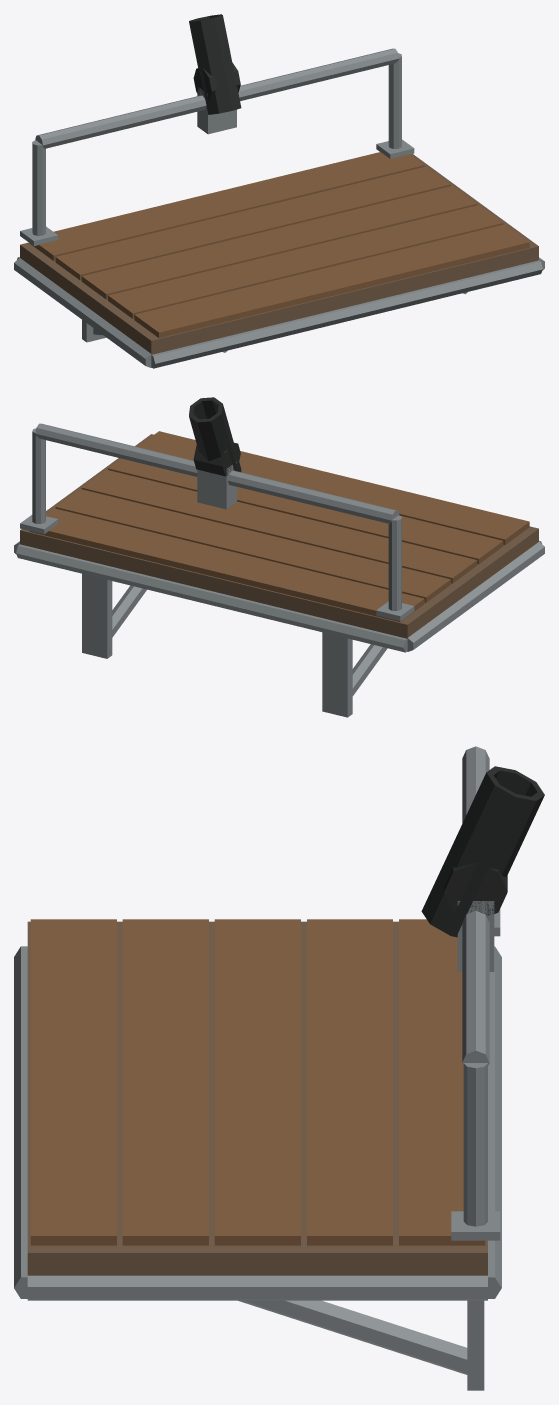
The model's file is boatDeck-lv1.glb.
3 renders of one model, top to bottom at view 1: azimuth 30°, elevation 25°; view 2: azimuth 150°, elevation 25°; view 3: azimuth 270°, elevation 25°, orthographic. The views are drawn at different scales.
Visible parts, largest first — view 1: wide-working-deck-plank-5, wide-working-deck-plank-2, wide-working-deck-plank-3, wide-working-deck-plank-4, wide-working-deck-plank-1, boat-mounted-working-platform, deck-perimeter-frame, horizontal-rod-mounting-rail, open-octagonal-rod-sleeve, short-holder-rail-stanchion (×2), deck-end-frame, rail-clamp-base (+2 smaller); view 2: wide-working-deck-plank-1, wide-working-deck-plank-2, wide-working-deck-plank-3, boat-mounted-working-platform, wide-working-deck-plank-5, wide-working-deck-plank-4, deck-perimeter-frame, horizontal-rod-mounting-rail, vertical-transom-mounting-plate (×2), short-holder-rail-stanchion (×2), deck-end-frame, open-octagonal-rod-sleeve (+4 smaller); view 3: wide-working-deck-plank-3, wide-working-deck-plank-4, wide-working-deck-plank-5, wide-working-deck-plank-2, boat-mounted-working-platform, wide-working-deck-plank-1, deck-end-frame, deck-perimeter-frame (×2), open-octagonal-rod-sleeve, horizontal-rod-mounting-rail, diagonal-deck-support-bracket, short-holder-rail-stanchion (+4 smaller).
Part boxes in pixels (x1,y1,x2,y2): wide-working-deck-plank-5: (134,224,529,337); wide-working-deck-plank-2: (55,166,450,280); wide-working-deck-plank-3: (81,185,477,299); wide-working-deck-plank-4: (108,205,503,318); wide-working-deck-plank-1: (29,152,424,260); boat-mounted-working-platform: (20,154,538,354); deck-perimeter-frame: (151,260,542,368); horizontal-rod-mounting-rail: (35,48,399,148); open-octagonal-rod-sleeve: (189,14,241,114); short-holder-rail-stanchion (×2): (32,53,401,235); deck-end-frame: (14,258,151,367); rail-clamp-base: (197,87,236,134); wide-working-deck-plank-1: (29,508,424,621); wide-working-deck-plank-2: (55,489,450,602); wide-working-deck-plank-3: (81,469,477,583); boat-mounted-working-platform: (20,434,538,638); wide-working-deck-plank-5: (138,431,529,544); wide-working-deck-plank-4: (108,458,503,564); deck-perimeter-frame: (16,544,407,652); horizontal-rod-mounting-rail: (35,423,399,523); vertical-transom-mounting-plate (×2): (82,573,352,717); short-holder-rail-stanchion (×2): (32,428,401,610); deck-end-frame: (407,542,544,651); open-octagonal-rod-sleeve: (189,397,241,473); wide-working-deck-plank-3: (214,919,300,1245); wide-working-deck-plank-4: (122,919,208,1245); wide-working-deck-plank-5: (30,919,116,1245); wide-working-deck-plank-2: (307,919,392,1245); boat-mounted-working-platform: (27,921,487,1275); wide-working-deck-plank-1: (399,919,485,1245); deck-end-frame: (27,1275,487,1300); deck-perimeter-frame (×2): (14,946,501,1298); open-octagonal-rod-sleeve: (421,766,544,937); horizontal-rod-mounting-rail: (462,746,489,1065); diagonal-deck-support-bracket: (238,1300,467,1374); short-holder-rail-stanchion: (463,1063,487,1226).
Size of the model in its own units: 2 by 1.38 by 1.32.
